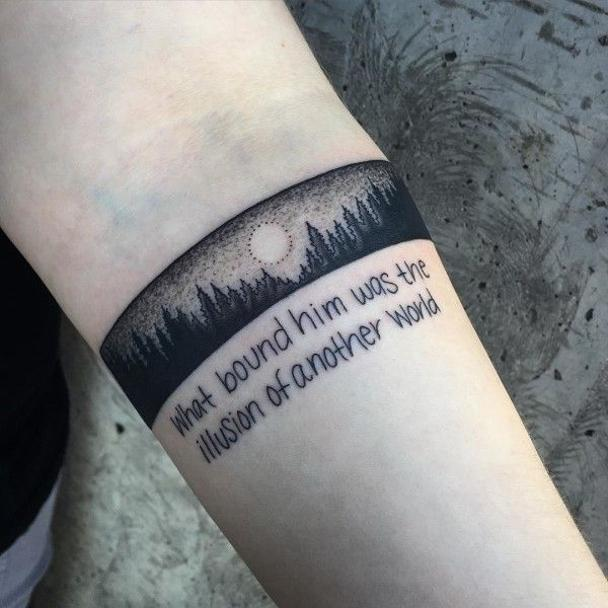tattoos: (98, 159, 442, 465)
